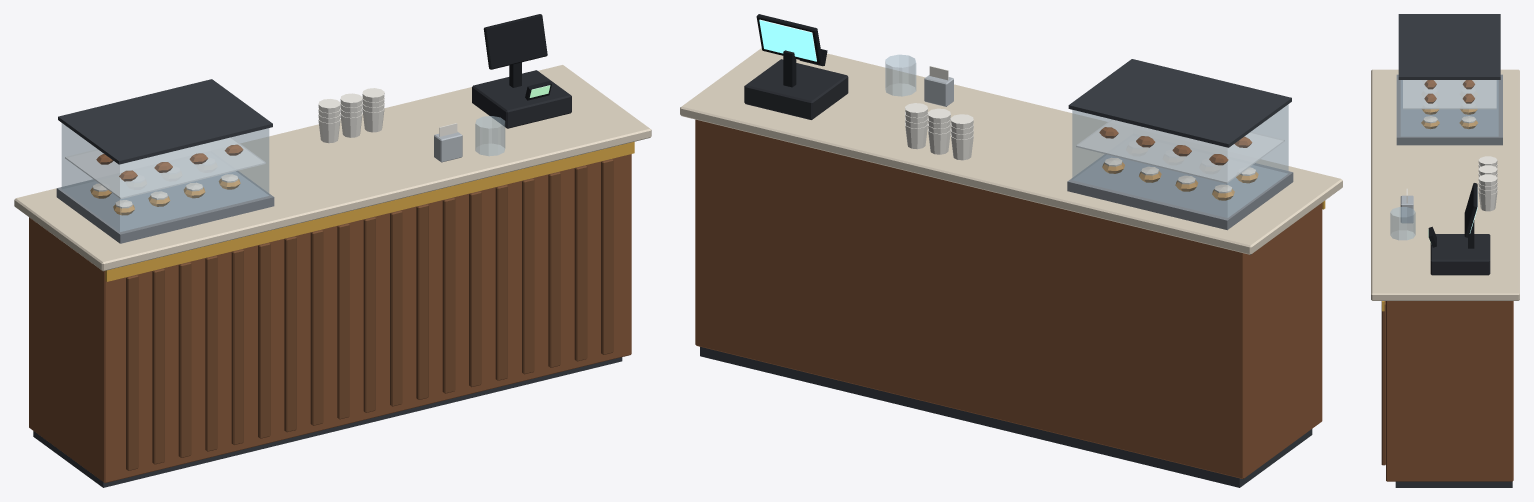
File: cafe_counter.glb
3 renders of one model, left to right at view 1: azimuth 30°, elevation 25°; view 2: azimuth 150°, elevation 25°; view 3: azimuth 270°, elevation 25°, orthographic. The views are drawn at different scales.
Parts seen in each view (by area): view 1: CafeCounter; view 2: CafeCounter; view 3: CafeCounter.
Boxes of the visible parts, x1,y1,x2,y2 form: CafeCounter: (14,14,651,487); CafeCounter: (680,14,1342,487); CafeCounter: (1371,14,1519,487).
Bounding box in the file's own units: 2.5 × 1.4 × 0.7.
